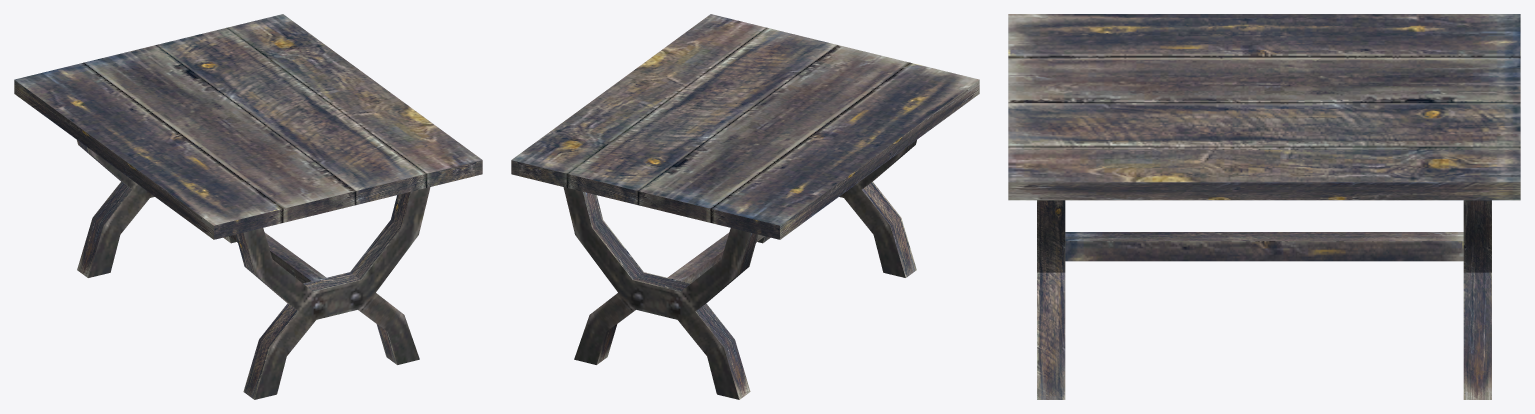
File: table2.glb
3 renders of one model, left to right at view 1: azimuth 30°, elevation 25°; view 2: azimuth 150°, elevation 25°; view 3: azimuth 270°, elevation 25°, orthographic. The views are drawn at different scales.
Visible parts, largest first — view 1: table2; view 2: table2; view 3: table2.
Part boxes in pixels (box(x1,y1,x2,y2)): table2: box(14, 14, 482, 399); table2: box(511, 14, 979, 399); table2: box(1008, 14, 1520, 399).
Size of the model in its own units: 1.4 by 0.9705 by 1.8.
Materials: 2 (2 with a texture image).
